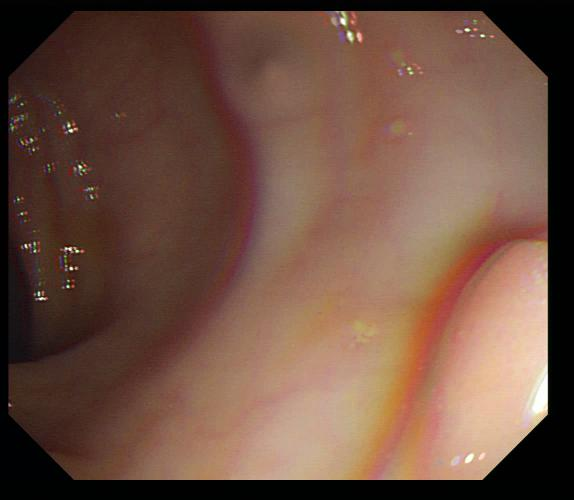polyp: (410, 227, 549, 476), (341, 309, 382, 351), (385, 112, 415, 146), (385, 43, 411, 74)
